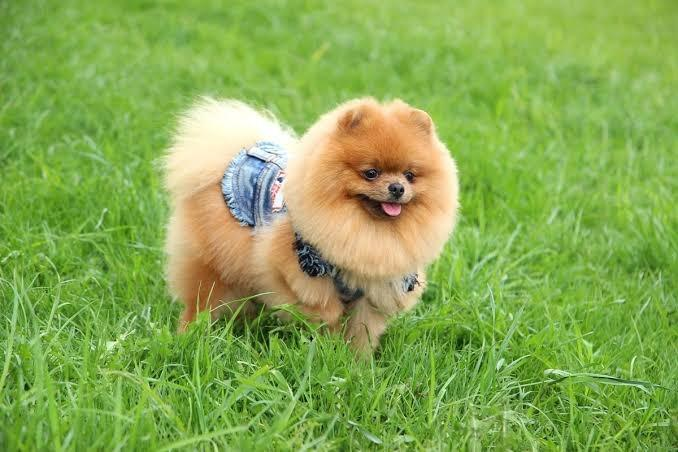adult_dog: (159, 95, 461, 358)
